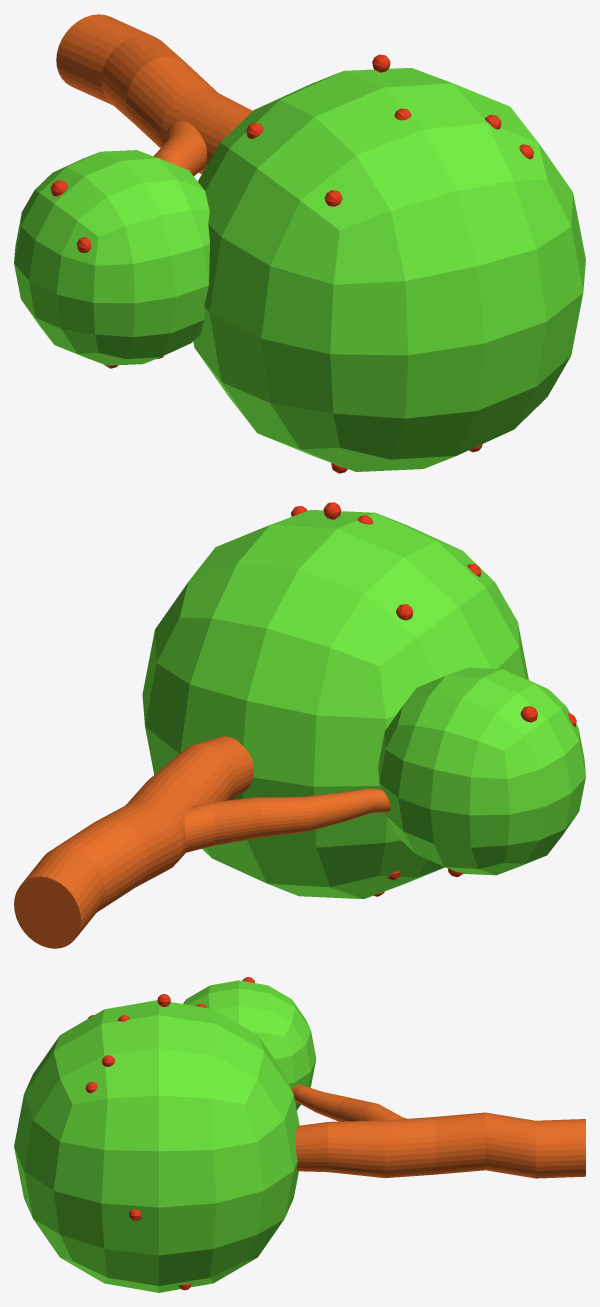
File: bbbbb.fbx
3 views of the same model, one above another, from view 1: azimuth 30°, elevation 25°; view 2: azimuth 150°, elevation 25°; view 3: azimuth 270°, elevation 25° (orthographic). The views are drawn at different scales.
Visible parts, largest first — view 1: Cube.028, Cube.030, Cylinder.007, Cylinder.006; view 2: Cube.028, Cube.030, Cylinder.007, Cylinder.006; view 3: Cube.028, Cylinder.007, Cube.030, Cylinder.006.
Boxes of the visible parts, left/top/right/bottom form: Cube.028: left=193, top=67, right=585, bottom=471; Cube.030: left=14, top=150, right=209, bottom=365; Cylinder.007: left=56, top=14, right=252, bottom=174; Cylinder.006: left=154, top=121, right=206, bottom=175; Cube.028: left=142, top=510, right=528, bottom=899; Cube.030: left=378, top=667, right=585, bottom=875; Cylinder.007: left=14, top=736, right=253, bottom=948; Cylinder.006: left=184, top=788, right=390, bottom=852; Cube.028: left=14, top=1000, right=299, bottom=1292; Cylinder.007: left=295, top=1112, right=585, bottom=1178; Cube.030: left=183, top=980, right=316, bottom=1109; Cylinder.006: left=291, top=1084, right=406, bottom=1121.
Size of the model in its own units: 508 by 404 by 738.
